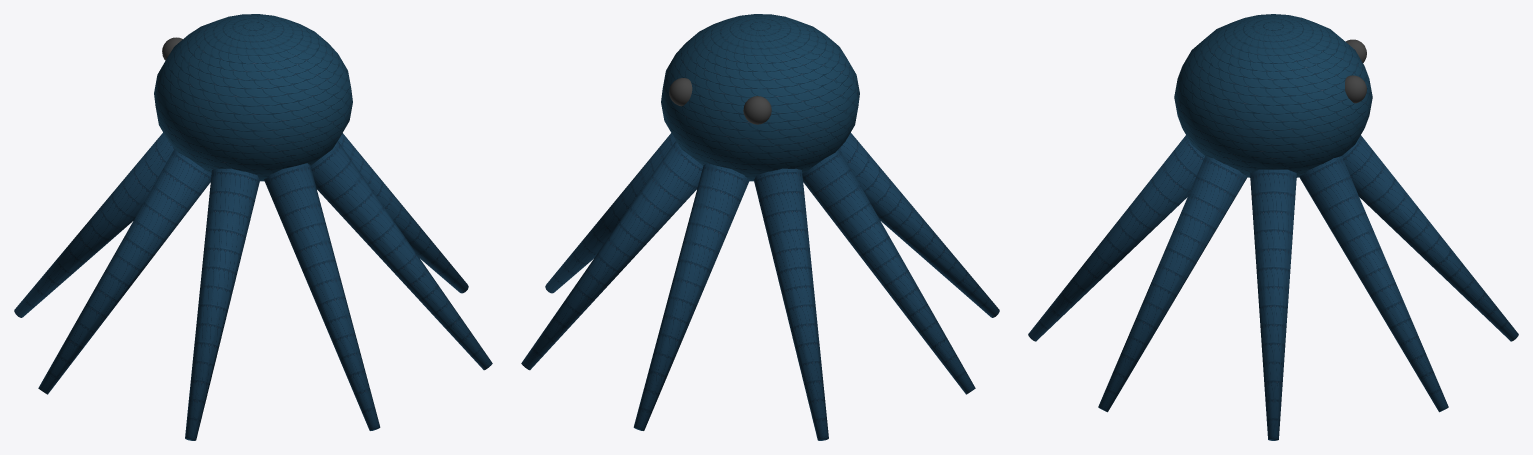
The model's file is kraken.glb.
3 views of the same model, side by side, from view 1: azimuth 30°, elevation 25°; view 2: azimuth 150°, elevation 25°; view 3: azimuth 270°, elevation 25° (orthographic).
Visible parts, largest first — view 1: Mass, Tentacle.005, Tentacle.006, Tentacle.004, Tentacle.007, Tentacle.003, Tentacle; view 2: Mass, Tentacle.003, Tentacle.002, Tentacle.004, Tentacle.001, Tentacle.005, Tentacle, Eye, Eye.001; view 3: Mass, Tentacle.001, Tentacle.007, Tentacle, Tentacle.002, Tentacle.006, Eye.001.
Boxes of the visible parts, <box> form: Mass: <box>154,14,352,181</box>; Tentacle.005: <box>185,168,260,440</box>; Tentacle.006: <box>264,163,380,430</box>; Tentacle.004: <box>38,148,211,394</box>; Tentacle.007: <box>310,141,492,370</box>; Tentacle.003: <box>14,132,174,317</box>; Tentacle: <box>338,133,468,293</box>; Mass: <box>661,14,859,181</box>; Tentacle.003: <box>753,168,828,440</box>; Tentacle.002: <box>633,163,749,430</box>; Tentacle.004: <box>802,148,975,394</box>; Tentacle.001: <box>521,141,703,370</box>; Tentacle.005: <box>839,132,999,317</box>; Tentacle: <box>545,133,675,293</box>; Eye: <box>743,96,771,124</box>; Eye.001: <box>669,78,692,106</box>; Mass: <box>1174,14,1372,177</box>; Tentacle.001: <box>1299,156,1448,412</box>; Tentacle.007: <box>1098,156,1247,412</box>; Tentacle: <box>1250,169,1296,440</box>; Tentacle.002: <box>1342,135,1518,341</box>; Tentacle.006: <box>1028,135,1204,341</box>; Eye.001: <box>1345,75,1366,103</box>.
Bounding box in the file's own units: 1.73 × 1.23 × 1.73.
3 materials, 2 textured.
